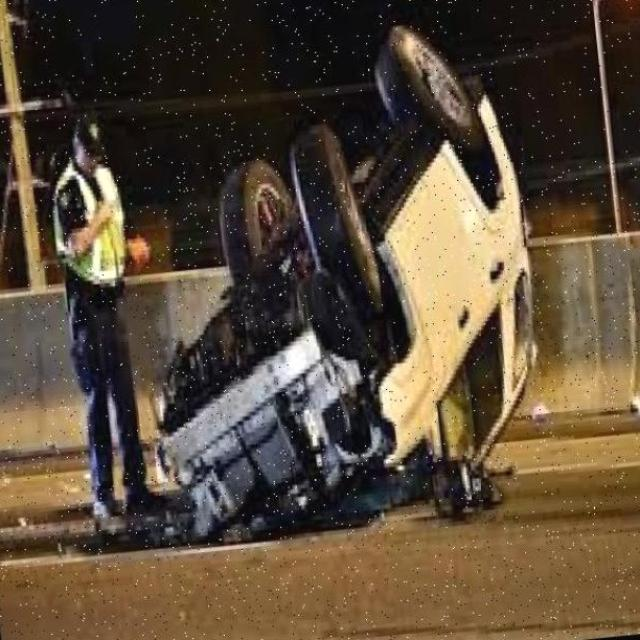accident: (106, 44, 594, 576)
